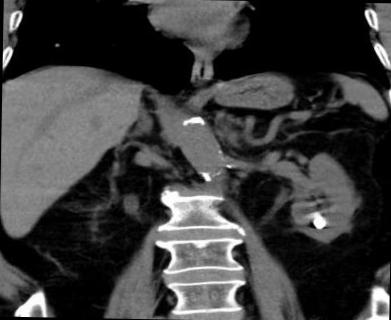Tas_Var: (310, 214, 326, 230)
